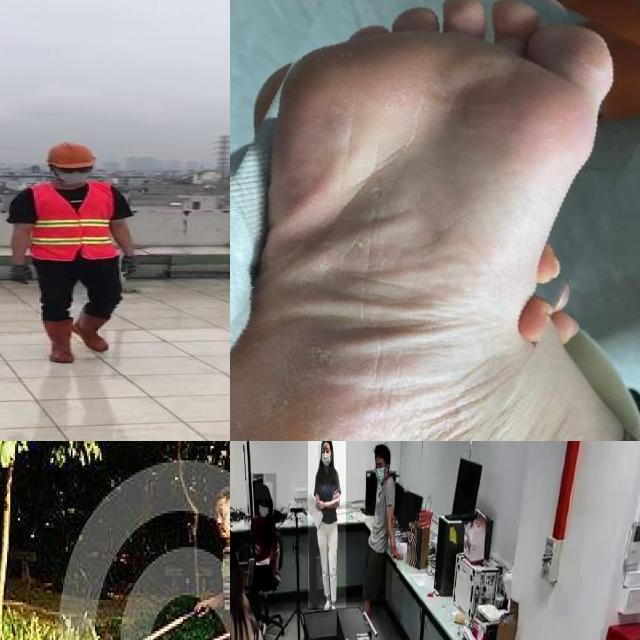Barefoots: (230, 0, 640, 441)
No_Ear-Protection: (208, 480, 230, 551)
boots: (37, 319, 75, 364), (73, 310, 112, 353)
face_mask: (374, 456, 388, 490), (257, 502, 273, 523), (319, 445, 333, 467)
hand_noglove: (391, 546, 404, 560), (314, 497, 326, 510), (332, 487, 341, 502)
head_helmet: (39, 140, 100, 171)
head_nohelmet: (255, 482, 273, 500), (230, 535, 239, 570), (371, 442, 391, 455), (321, 441, 332, 445)
person: (5, 142, 146, 368), (307, 441, 346, 608), (365, 441, 400, 625), (248, 473, 277, 591)
vest: (30, 183, 121, 260)
